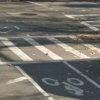Crosswalk: (1, 23, 92, 62)
